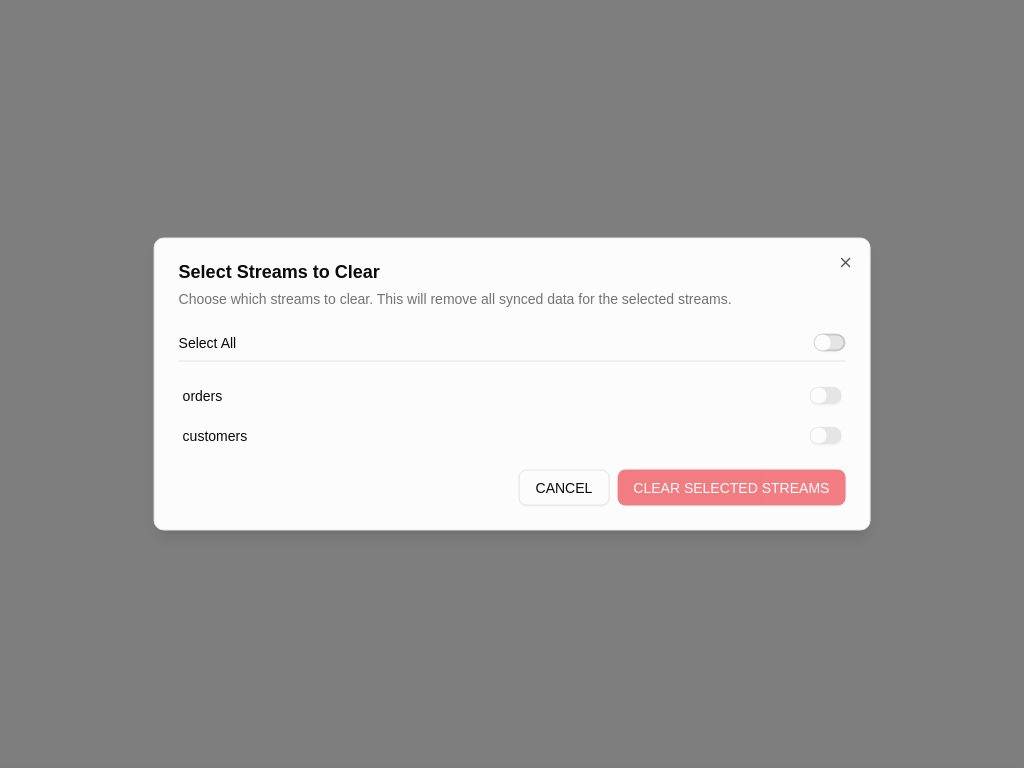
Test: StreamSelectionDialog › select all toggle enables all streams and confirm button
Expected: the text "orders" is shown, x1=183 y1=386 x2=222 y2=406
Click the switch with test id "select-all-streams" at (829, 342), box x1=813 y1=333 x2=845 y2=352
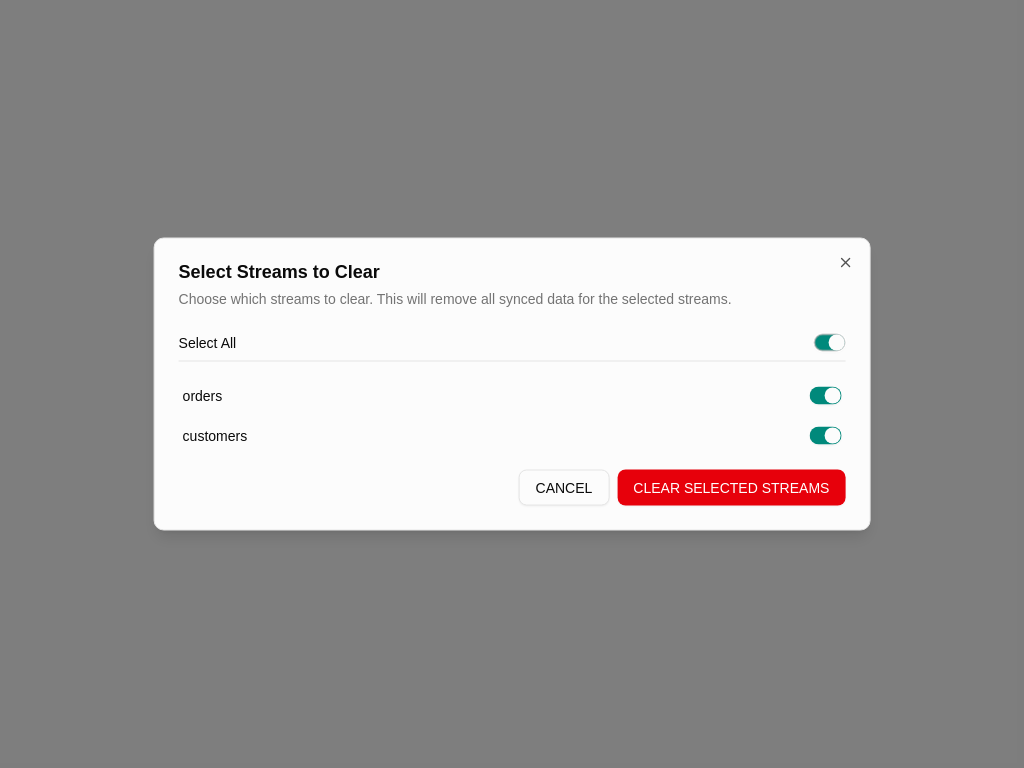
Expected: the button with test id "confirm-clear-streams" is enabled, x1=617 y1=470 x2=845 y2=506
